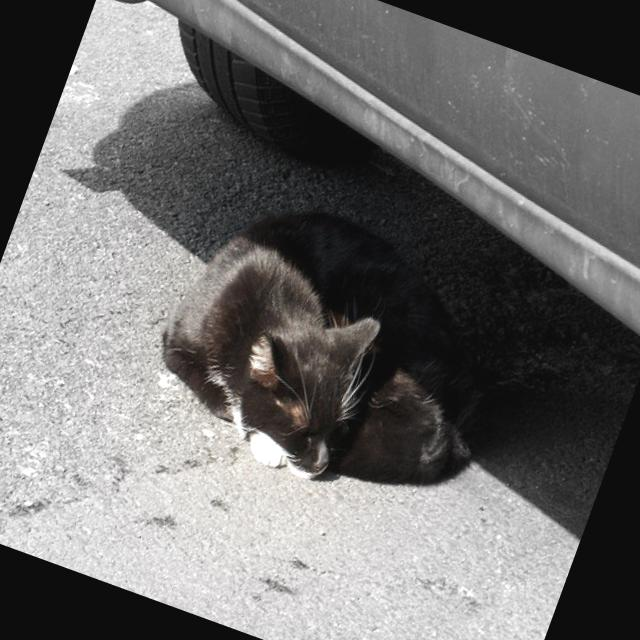Vehicle: (48, 0, 640, 350)
